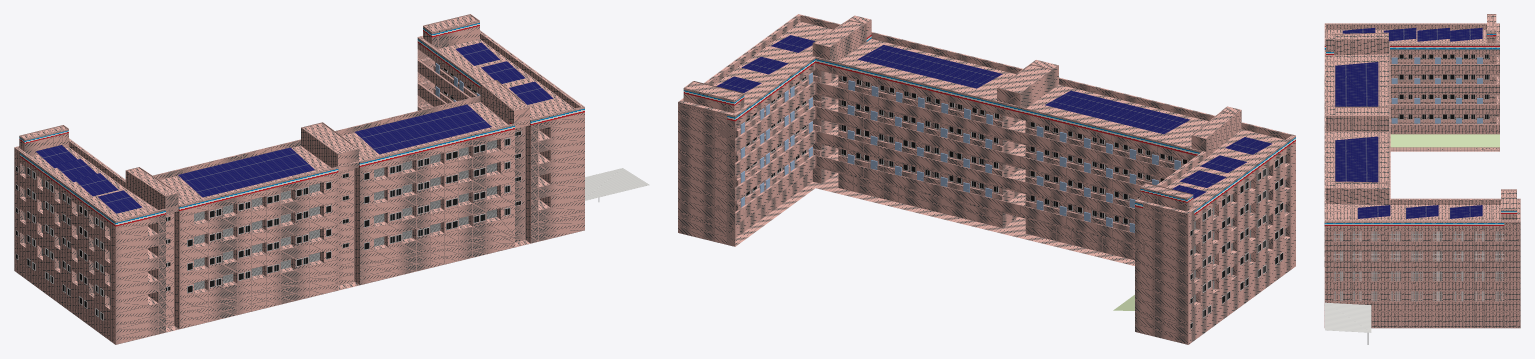
The model's file is VR_dorm.fbx.
The picture shows the model from 3 angles, left to right: view 1: azimuth 30°, elevation 25°; view 2: azimuth 150°, elevation 25°; view 3: azimuth 270°, elevation 25°; orthographic projection. The views are drawn at different scales.
Visible parts, largest first — view 1: vr宿舍, 平面.033, 平面.023, 平面.002, 平面.036, 平面.040, 平面.039, 平面.034, 平面.035, 平面.038, 平面.037; view 2: vr宿舍, 平面.023, 平面.033, 平面.040, 平面.035, 平面.038, 平面.039, 平面.036; view 3: vr宿舍, 平面.023, 平面.033, 平面.002, 平面.036, 平面.034, 平面.035, 平面.037, 平面.038, 平面.039, 平面.040.
Part boxes in pixels (x1,y1,x2,y2): vr宿舍: (14,14,584,344); 平面.033: (178,147,314,197); 平面.023: (355,104,491,154); 平面.002: (585,168,649,200); 平面.036: (509,81,553,104); 平面.040: (98,190,142,213); 平面.039: (74,173,118,196); 平面.034: (456,42,499,65); 平面.035: (481,61,525,83); 平面.038: (54,159,96,182); 平面.037: (36,145,77,168); vr宿舍: (678,14,1295,344); 平面.023: (857,45,1002,88); 平面.033: (1045,90,1189,134); 平面.040: (1225,137,1272,154); 平面.035: (741,56,788,74); 平面.038: (1179,170,1226,187); 平面.039: (1200,155,1246,172); 平面.036: (771,35,815,52); vr宿舍: (1324,14,1520,328); 平面.023: (1335,136,1378,182); 平面.033: (1335,62,1378,106); 平面.002: (1325,302,1371,332); 平面.036: (1357,205,1390,218); 平面.034: (1450,205,1482,218); 平面.035: (1406,205,1438,218); 平面.037: (1450,27,1482,41); 平面.038: (1417,27,1449,41); 平面.039: (1383,28,1416,41); 平面.040: (1342,28,1375,33).
Size of the model in its own units: 7192 by 1749 by 2648.
